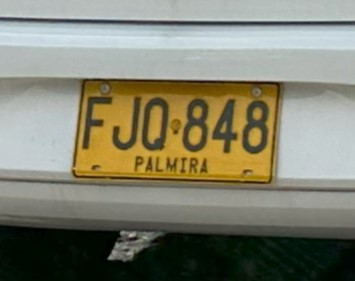number plate: (73, 80, 278, 182)
